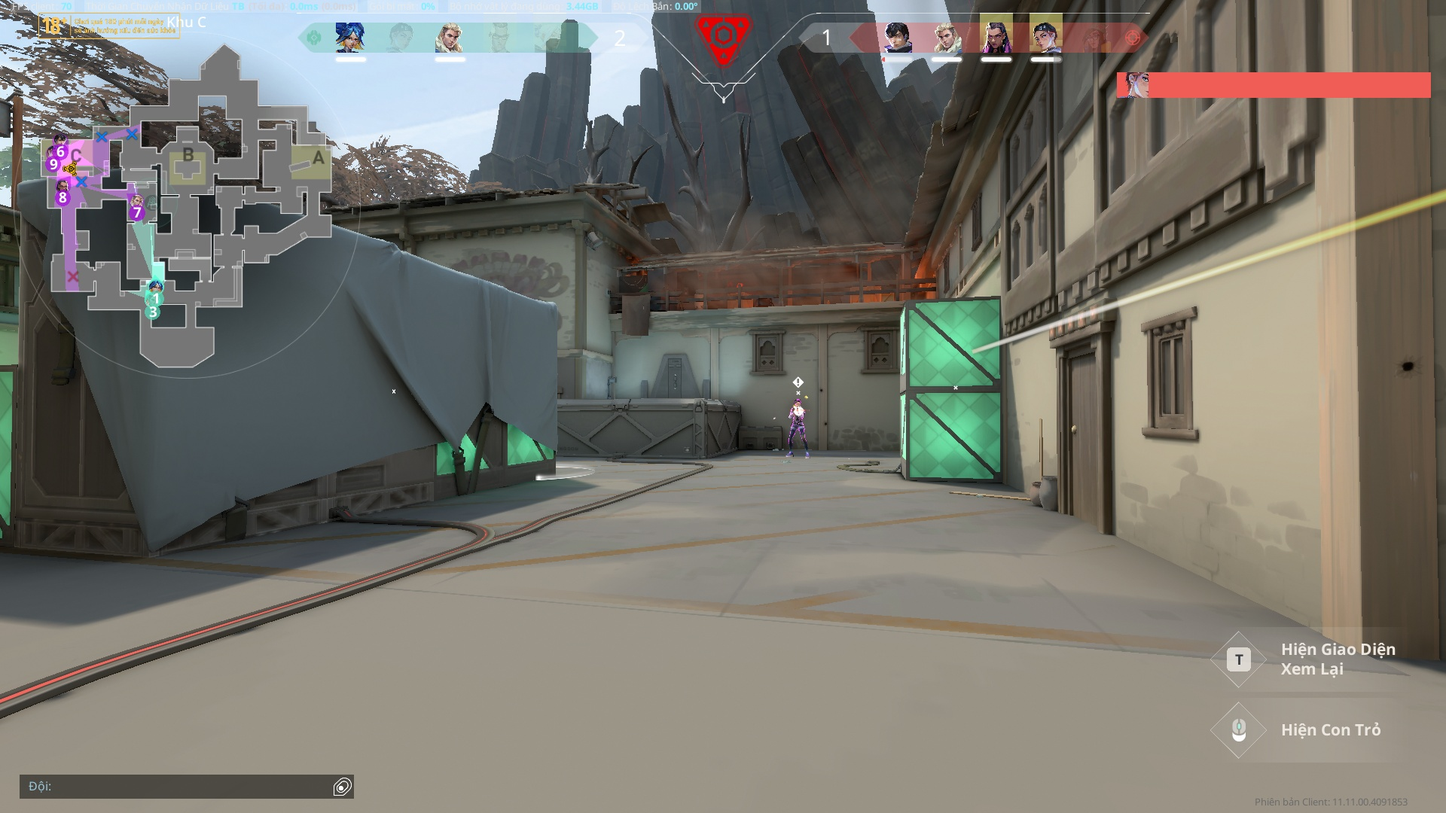body: (790, 406, 805, 423)
head: (792, 397, 802, 408)
